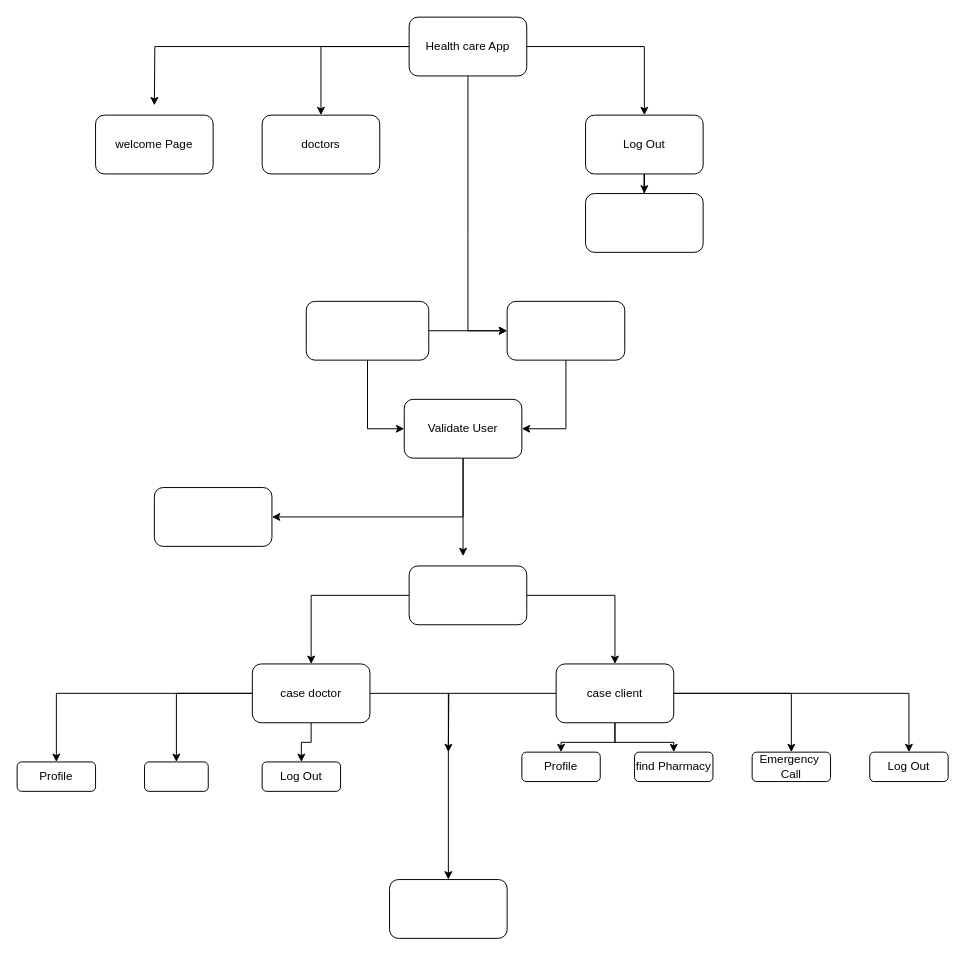
Some shapes in this 965 by 956 pixel diagram are drawn without their labels. The shapes that lost their labels are listed below. From the top down, each one's centre as x and y in pixels, then its label:
point (644, 222): clear Local Storage
point (367, 330): signup
point (565, 330): Log In
point (212, 516): Validate Error
point (467, 595): validation succsee
point (176, 776): Pacients
point (448, 908): Enjoy
